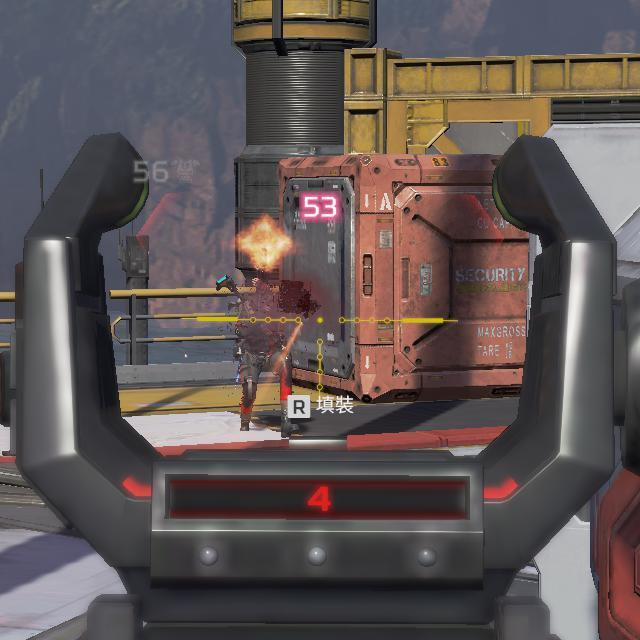avatar: (229, 275, 300, 440)
